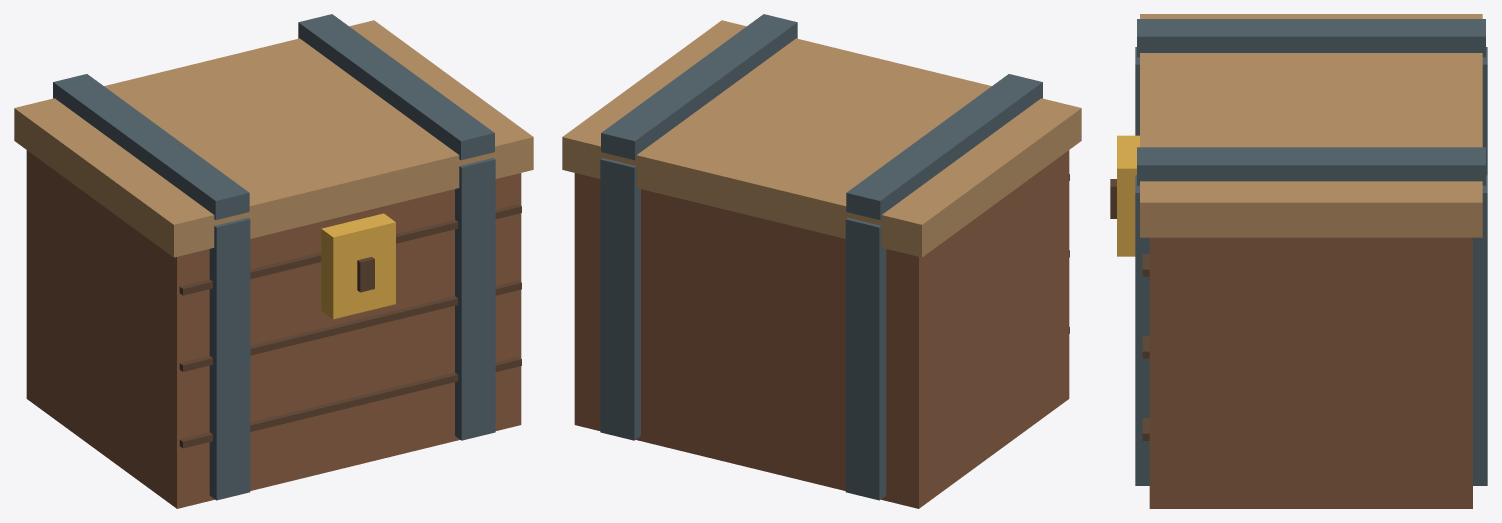
File: crate.gltf
3 renders of one model, left to right at view 1: azimuth 30°, elevation 25°; view 2: azimuth 150°, elevation 25°; view 3: azimuth 270°, elevation 25°, orthographic. The views are drawn at different scales.
Parts seen in each view (by area): view 1: crate; view 2: crate; view 3: crate.
Boxes of the visible parts, x1,y1,x2,y2 form: crate: (14, 14, 533, 508); crate: (562, 14, 1081, 508); crate: (1110, 14, 1487, 508).
Size of the model in its own units: 0.69 by 0.5575 by 0.5835.
